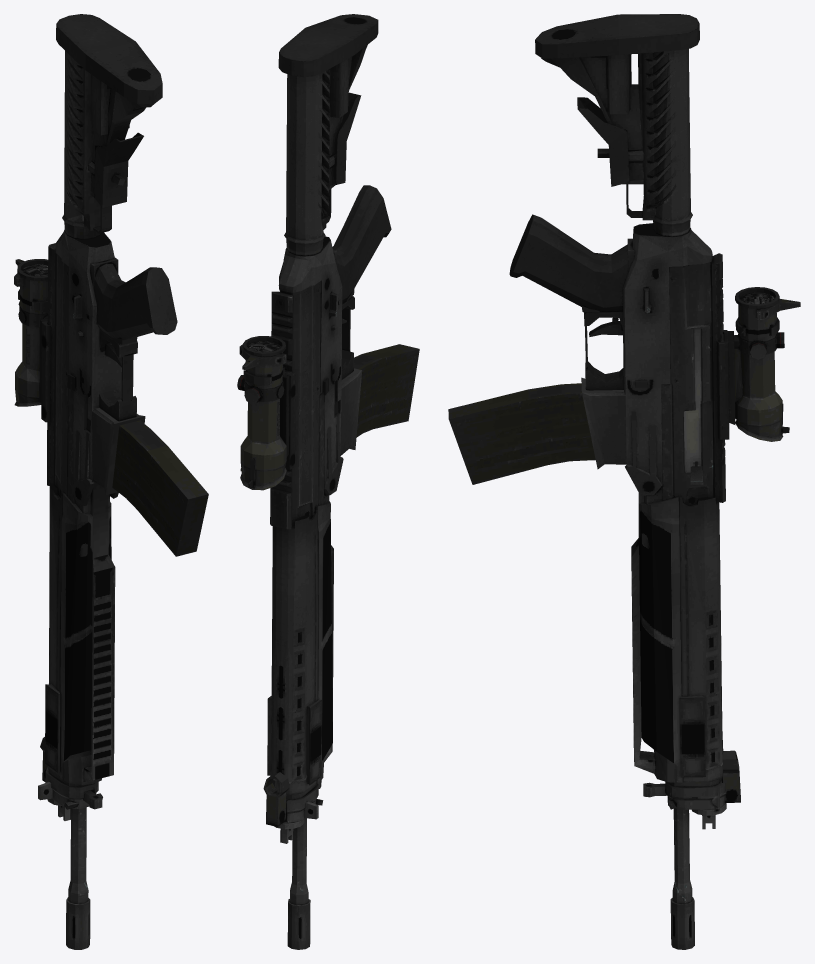
The model's file is w_rif_sg556.obj.
3 views of the same model, side by side, from view 1: azimuth 30°, elevation 25°; view 2: azimuth 150°, elevation 25°; view 3: azimuth 270°, elevation 25° (orthographic). The views are drawn at different scales.
Bounding box in the file's own units: 0.0333 × 0.369 × 0.1279.
Materials: 1 (1 with a texture image).
